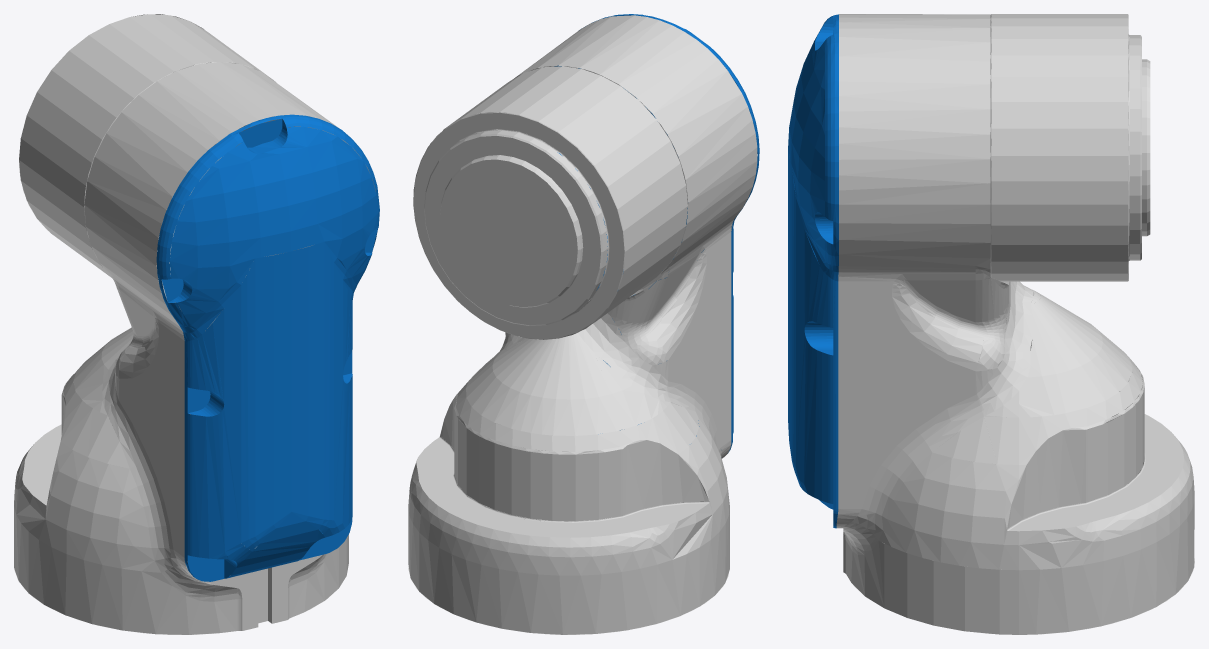
File: arm_right_link_5_r.dae
3 views of the same model, side by side, from view 1: azimuth 30°, elevation 25°; view 2: azimuth 150°, elevation 25°; view 3: azimuth 270°, elevation 25° (orthographic). The views are drawn at different scales.
Parts seen in each view (by area): view 1: ShapeIndexedFaceSet_001, ShapeIndexedFaceSet; view 2: ShapeIndexedFaceSet_001, ShapeIndexedFaceSet; view 3: ShapeIndexedFaceSet_001, ShapeIndexedFaceSet.
Boxes of the visible parts, x1,y1,x2,y2 form: ShapeIndexedFaceSet_001: (14,14,375,634); ShapeIndexedFaceSet: (156,114,379,581); ShapeIndexedFaceSet_001: (408,15,757,634); ShapeIndexedFaceSet: (554,14,759,453); ShapeIndexedFaceSet_001: (836,14,1194,634); ShapeIndexedFaceSet: (788,14,838,528).
Bounding box in the file's own units: 0.105 × 0.1215 × 0.176.
